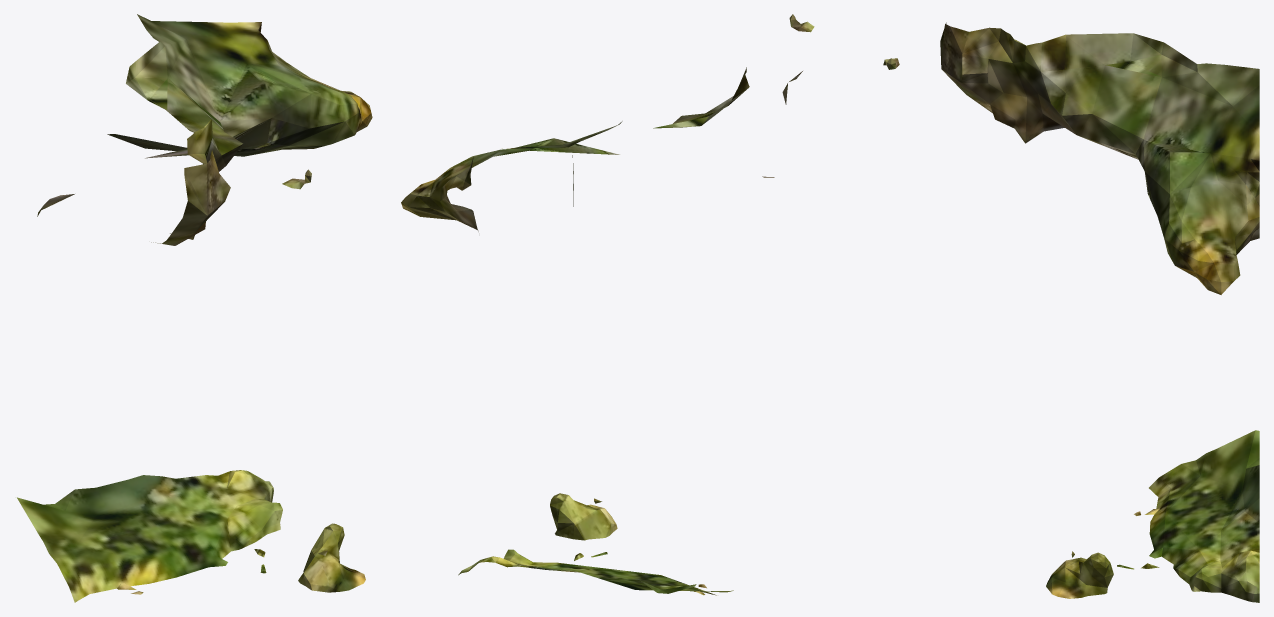
The picture shows the model from 3 angles, left to right: view 1: azimuth 30°, elevation 25°; view 2: azimuth 150°, elevation 25°; view 3: azimuth 270°, elevation 25°; orthographic projection. The views are drawn at different scales.
Size of the model in its own units: 1.15 by 1.67 by 1.21.
2 materials, 2 textured.
